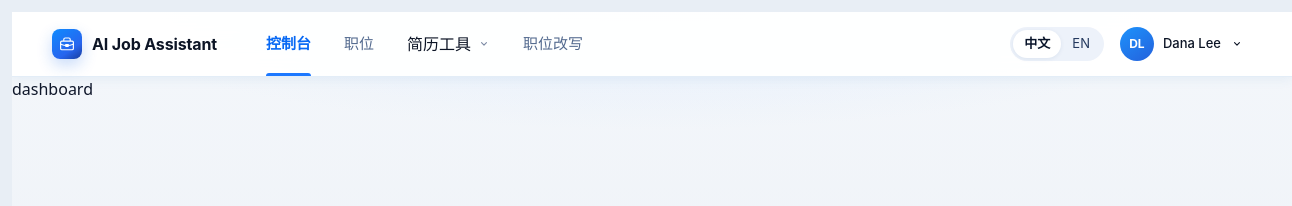
Test: AppLayout › gives /dashboard its own console navigation without changing other pages
Expected: the header with class "wbNav" is shown, x1=12 y1=12 x2=1291 y2=77
Expected: the link "个人中心" is not shown
Click the button "DL Dana Lee" at (1184, 44), box x1=1116 y1=22 x2=1252 y2=66
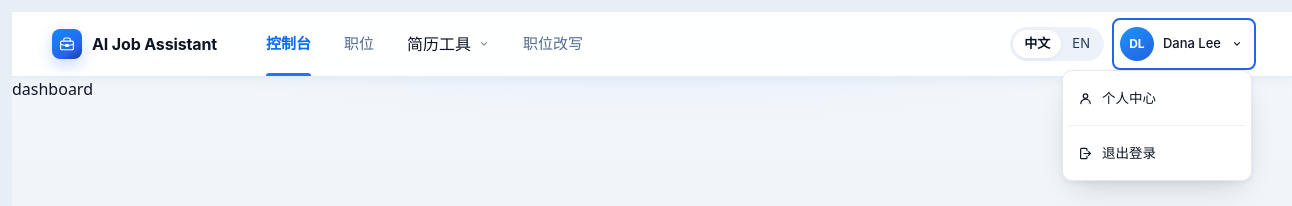
Expected: the menu item "退出登录" is shown, x1=1068 y1=131 x2=1246 y2=175
